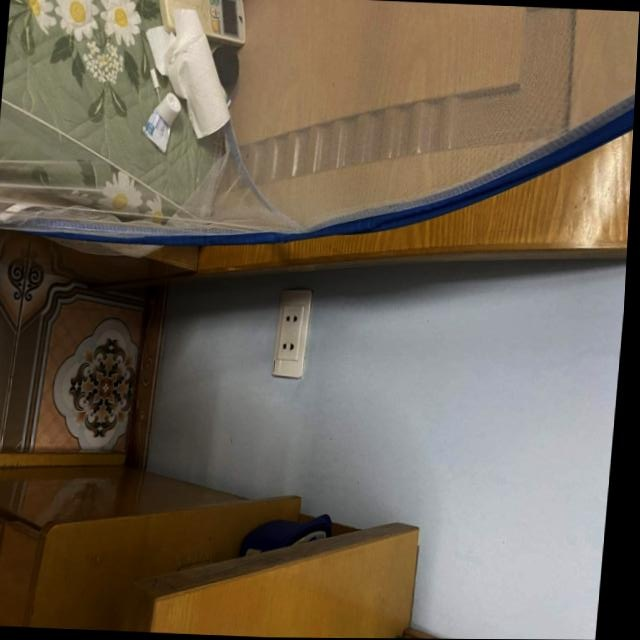outlet: (272, 286, 314, 378)
